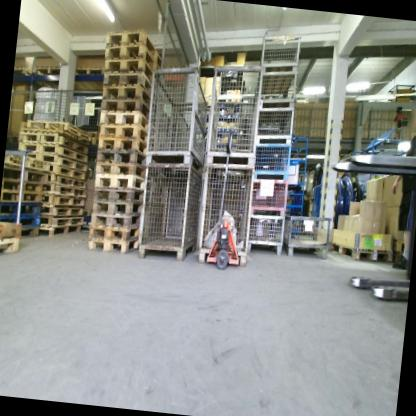pallet: (26, 113, 91, 152), (103, 24, 164, 64), (328, 239, 395, 267), (103, 37, 157, 67), (21, 142, 89, 163), (102, 67, 154, 94), (102, 56, 154, 82), (102, 81, 152, 105), (86, 233, 138, 256), (89, 208, 141, 230), (98, 108, 149, 130), (99, 96, 150, 118), (93, 171, 145, 192), (95, 147, 147, 168), (98, 120, 149, 141), (88, 221, 138, 242), (37, 154, 89, 173), (91, 198, 141, 217), (92, 186, 142, 203), (37, 222, 81, 241), (97, 136, 148, 152), (0, 199, 40, 218), (95, 162, 145, 177), (1, 179, 44, 195), (44, 191, 85, 207), (0, 190, 43, 204), (32, 60, 62, 80), (41, 204, 83, 218), (38, 213, 82, 226), (0, 232, 19, 261), (48, 175, 87, 189), (74, 63, 105, 80), (46, 184, 86, 197), (0, 214, 40, 227), (49, 165, 87, 178), (13, 65, 33, 81), (20, 224, 39, 240), (390, 241, 412, 254)
pallet_truck: (315, 15, 416, 307), (203, 127, 254, 273)
stillage: (135, 155, 209, 268), (144, 60, 214, 172), (191, 160, 257, 269), (203, 57, 265, 170), (280, 213, 330, 259), (259, 29, 302, 77), (256, 67, 299, 113), (253, 103, 295, 146), (249, 175, 290, 219), (246, 212, 285, 258), (249, 142, 293, 178)
